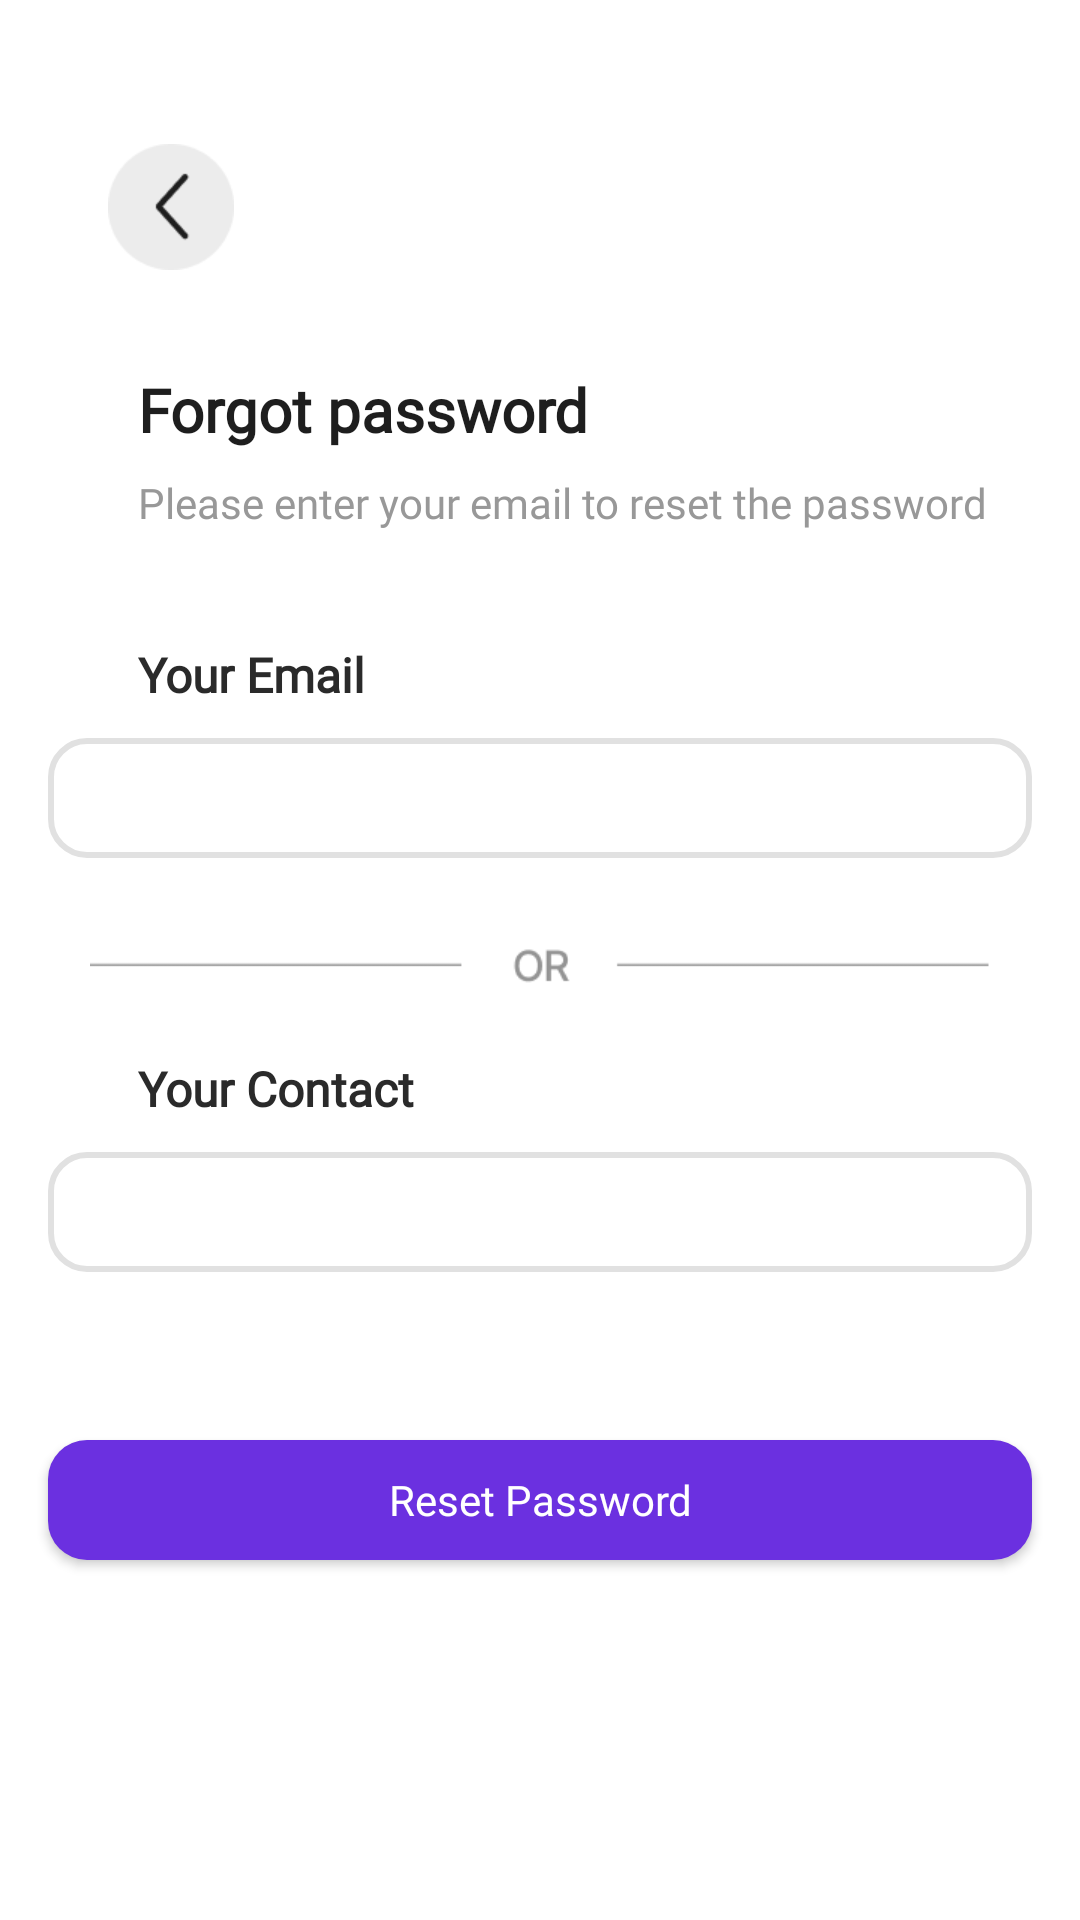

Named icons in this screenshot (1080px×1920px) and their bounding boxes, (x1, y1, x2, y2):
back: (108, 144, 234, 270)
